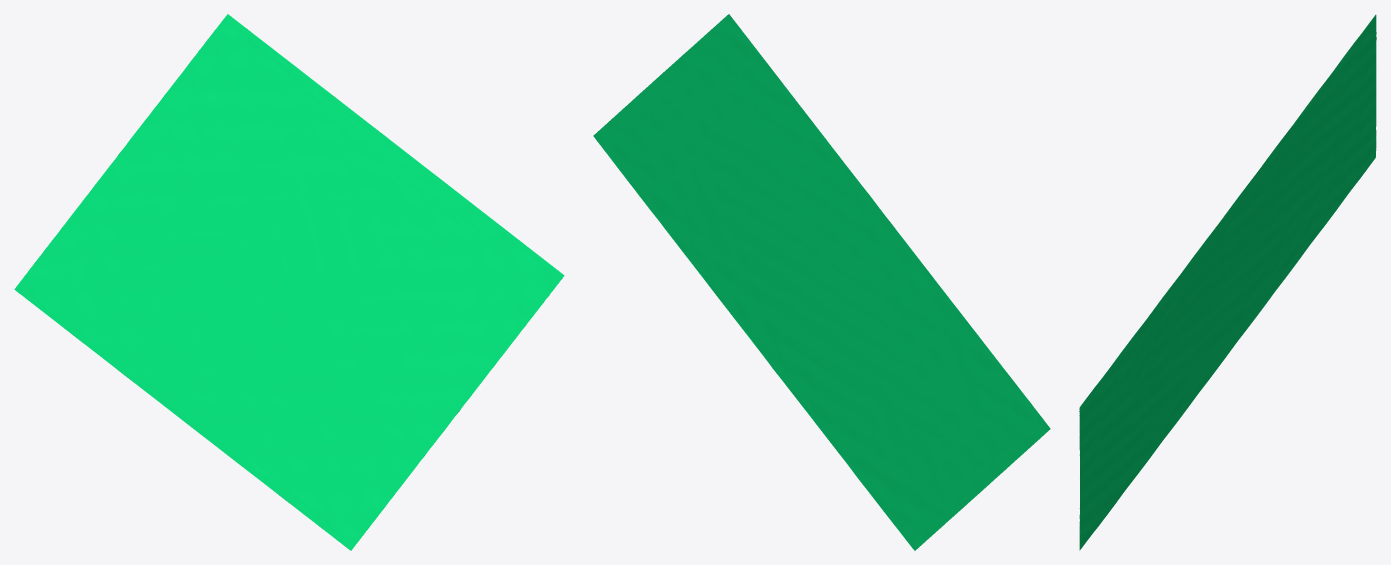
Rendered from christoffel_symbols_surface_ar_universal.glb.
3 views of the same model, side by side, from view 1: azimuth 30°, elevation 25°; view 2: azimuth 150°, elevation 25°; view 3: azimuth 270°, elevation 25° (orthographic). The views are drawn at different scales.
Parts seen in each view (by area): view 1: christoffel_symbols_surface_ar; view 2: christoffel_symbols_surface_ar; view 3: christoffel_symbols_surface_ar.
Boxes of the visible parts, x1,y1,x2,y2 form: christoffel_symbols_surface_ar: [14, 14, 564, 550]; christoffel_symbols_surface_ar: [593, 14, 1050, 550]; christoffel_symbols_surface_ar: [1079, 14, 1376, 550].
Size of the model in its own units: 1 by 1 by 0.5014.
